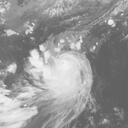cyclone: (37, 52, 93, 107)
